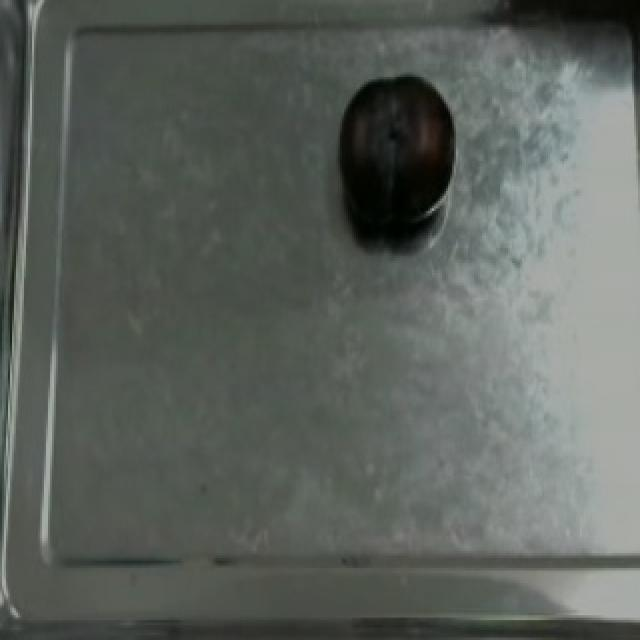Fruit: (332, 70, 460, 243)
